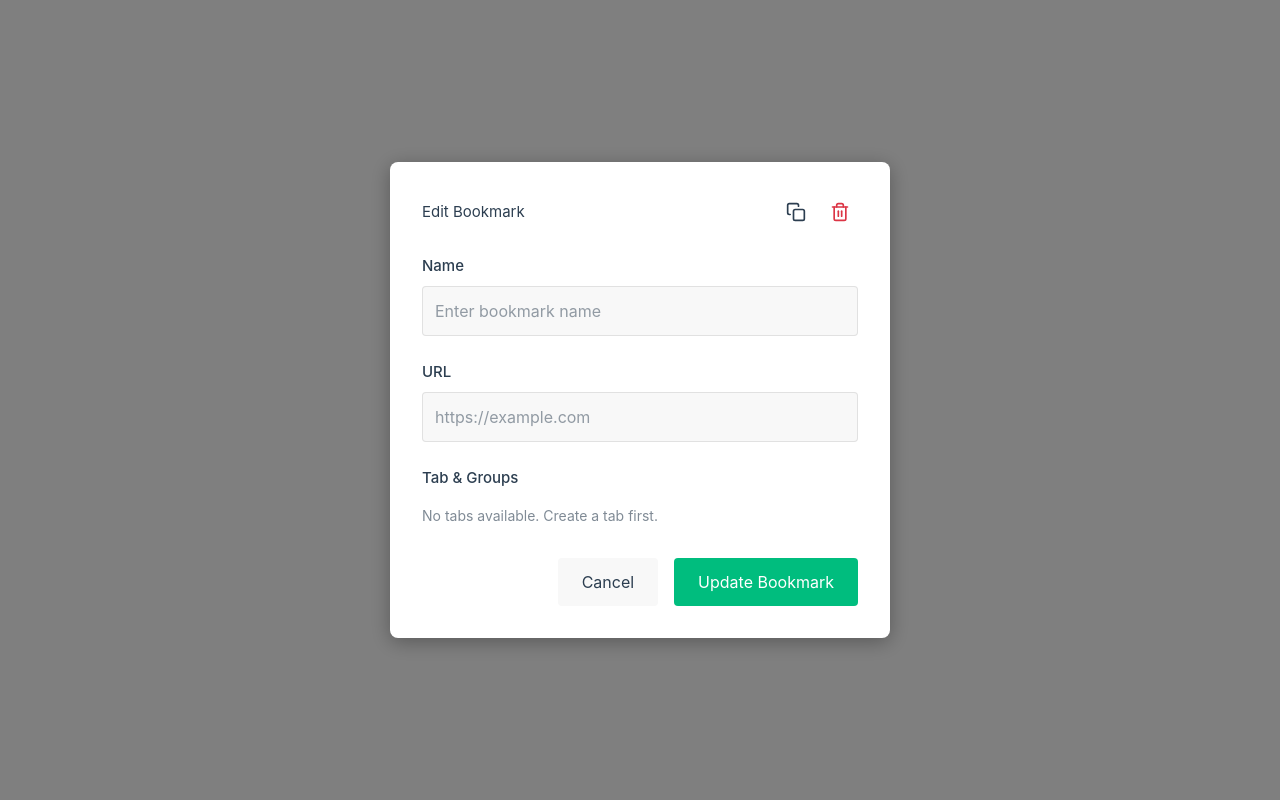
Test case: EditBookmarkForm › validates that URL is required
Clear the field with id "bookmark-url": x=640, y=417 [422, 392, 858, 442]
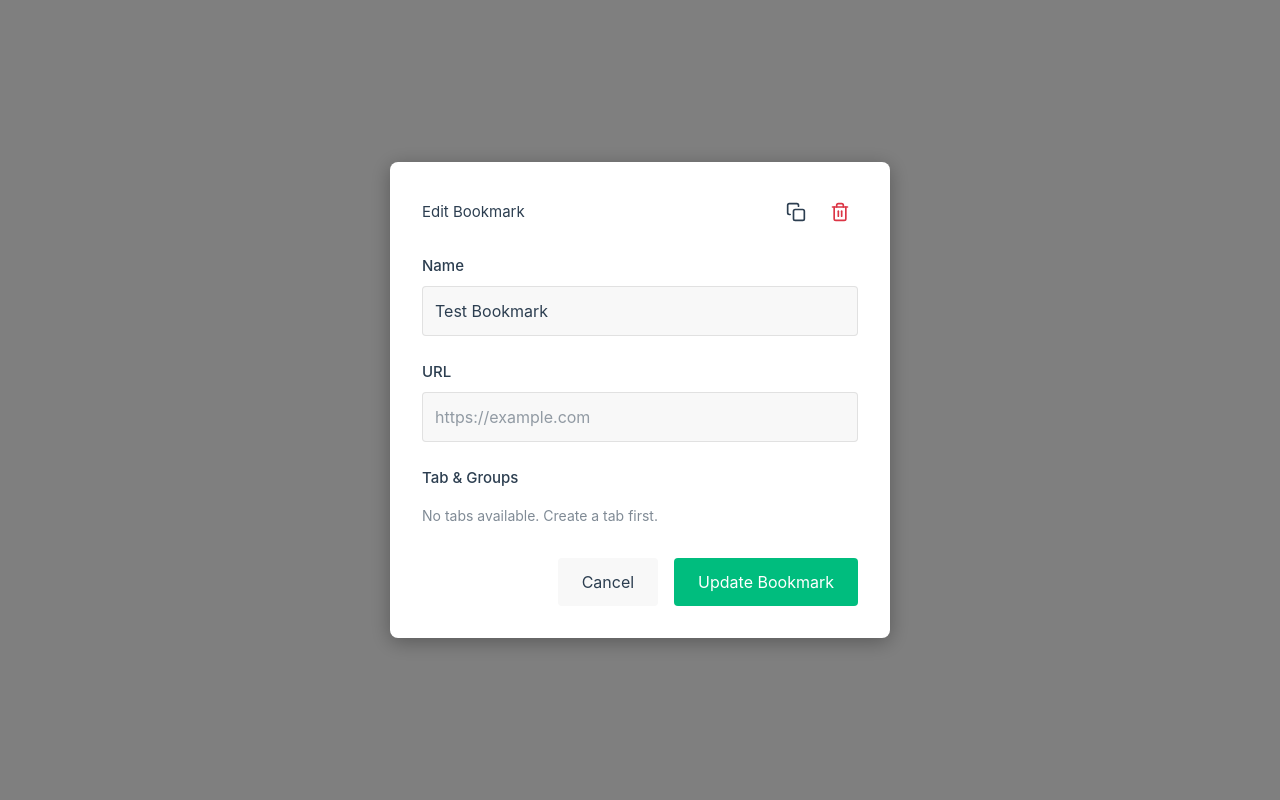
Submit the form, box [422, 254, 858, 606]
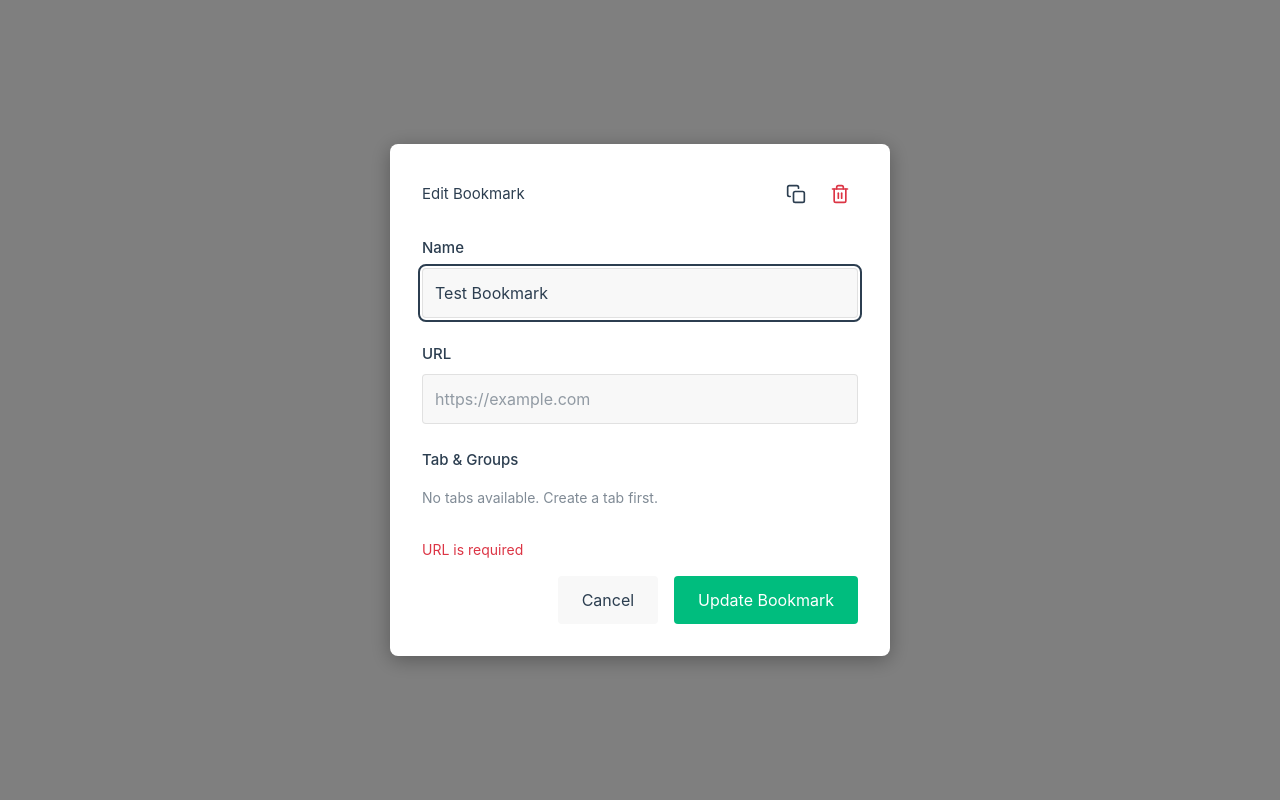
Result: the text "URL is required" is shown at [422, 541, 523, 558]
